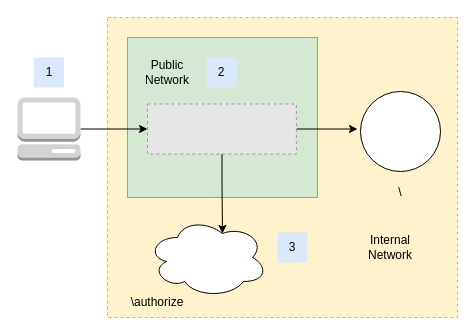
Image size: 475x335. Some labels were removed from this diagram. Grey dashed boxes stand in for pictures. The shapes that lost their labels are listed below. From the top down, each one's centre as x and y in pixels, then its label:
At (400,131): "Service A".
At (207,257): "Authorization Service".
